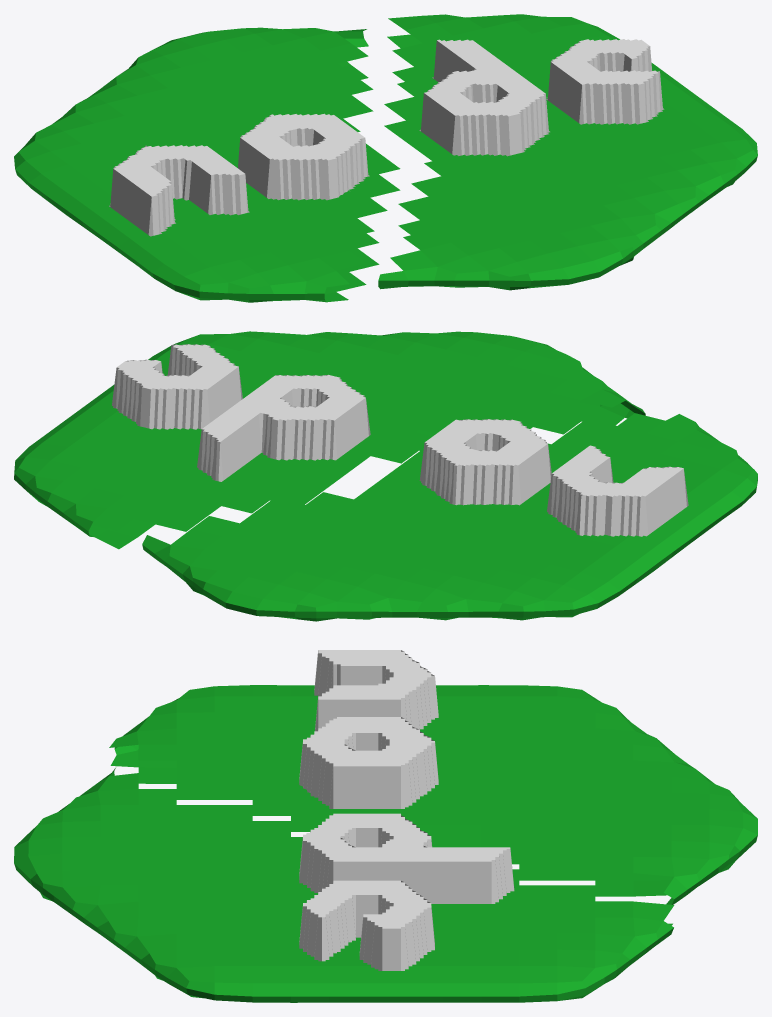
File: node-cut.fbx
3 renders of one model, top to bottom at view 1: azimuth 30°, elevation 25°; view 2: azimuth 150°, elevation 25°; view 3: azimuth 270°, elevation 25°, orthographic. The views are drawn at different scales.
Parts seen in each view (by area): view 1: Plane.002, Plane.001; view 2: Plane.001, Plane.002; view 3: Plane.002, Plane.001.
Boxes of the visible parts, bbox=[...] form: Plane.002: bbox=[378, 14, 757, 290]; Plane.001: bbox=[14, 27, 400, 302]; Plane.001: bbox=[142, 413, 757, 621]; Plane.002: bbox=[14, 331, 645, 549]; Plane.002: bbox=[14, 768, 674, 1002]; Plane.001: bbox=[109, 650, 757, 904].
Size of the model in its own units: 967 by 93.16 by 977.
